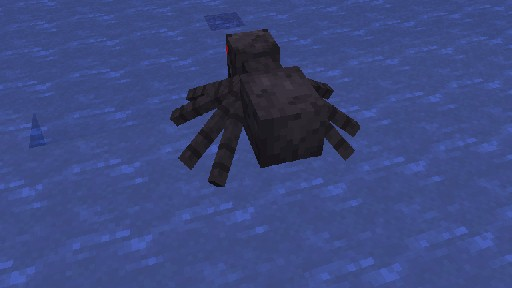spider: (169, 28, 360, 187)
